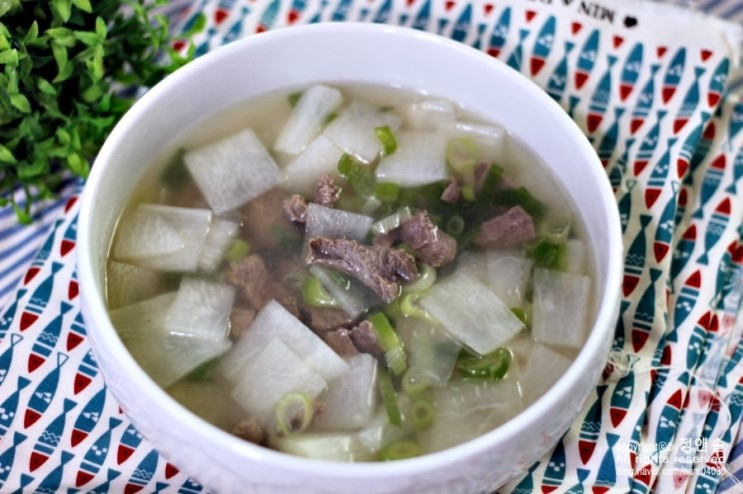mugug: (104, 80, 600, 464)
